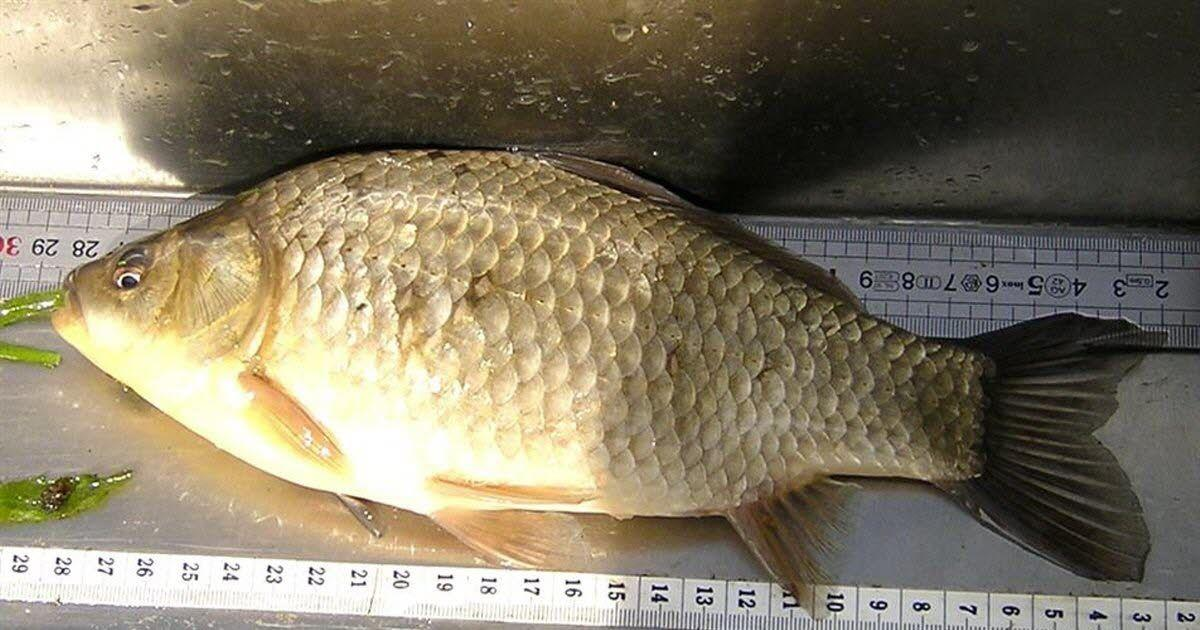Grass Carp: (54, 140, 1147, 612)
